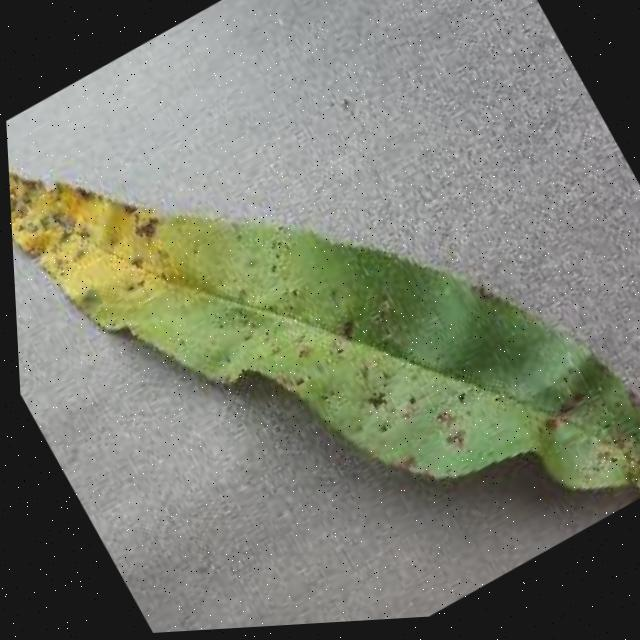Bacterial_spot: (5, 90, 226, 366), (161, 183, 396, 426), (302, 293, 516, 513), (497, 329, 640, 537)
